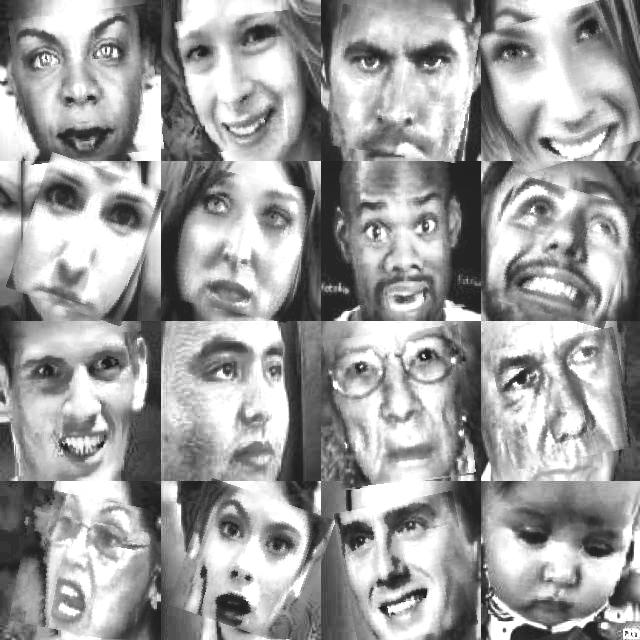angry: (177, 487, 326, 639), (328, 9, 477, 159), (15, 493, 151, 639), (340, 168, 473, 310), (495, 333, 631, 465)
fear: (11, 333, 157, 475)
happy: (484, 6, 638, 168), (491, 182, 631, 322), (339, 496, 472, 640), (178, 13, 300, 153)
neutral: (12, 8, 160, 162), (16, 160, 158, 319), (179, 338, 311, 476)
sad: (328, 328, 472, 487), (173, 171, 309, 317), (490, 508, 632, 621)
